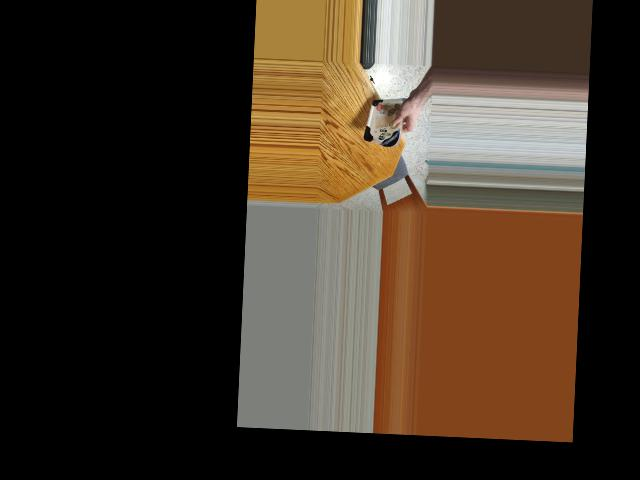cheese: (367, 90, 404, 150)
